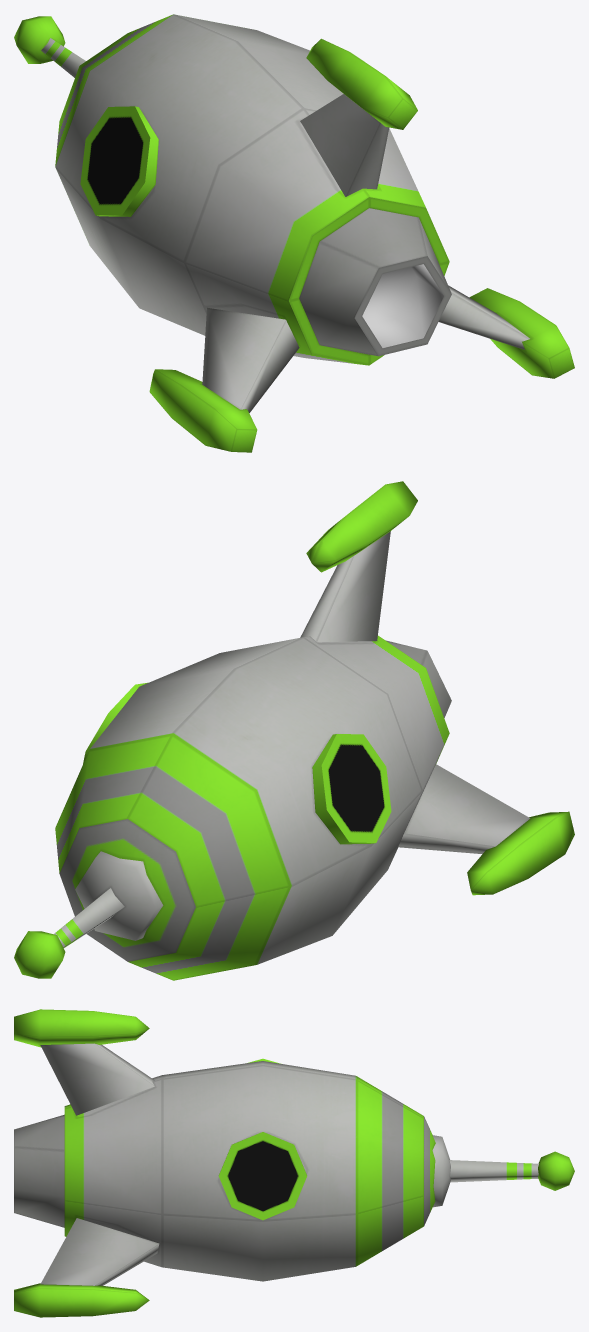
File: ShipRetroA.fbx
3 views of the same model, one above another, from view 1: azimuth 30°, elevation 25°; view 2: azimuth 150°, elevation 25°; view 3: azimuth 270°, elevation 25° (orthographic). The views are drawn at different scales.
Parts seen in each view (by area): view 1: Empty_Mesh; view 2: Empty_Mesh; view 3: Empty_Mesh.
Part boxes in pixels (left/top/right/bottom): Empty_Mesh: left=14, top=14, right=574, bottom=452; Empty_Mesh: left=14, top=481, right=574, bottom=980; Empty_Mesh: left=14, top=1009, right=574, bottom=1317.
Size of the model in its own units: 0.5164 by 0.4942 by 0.9366.
